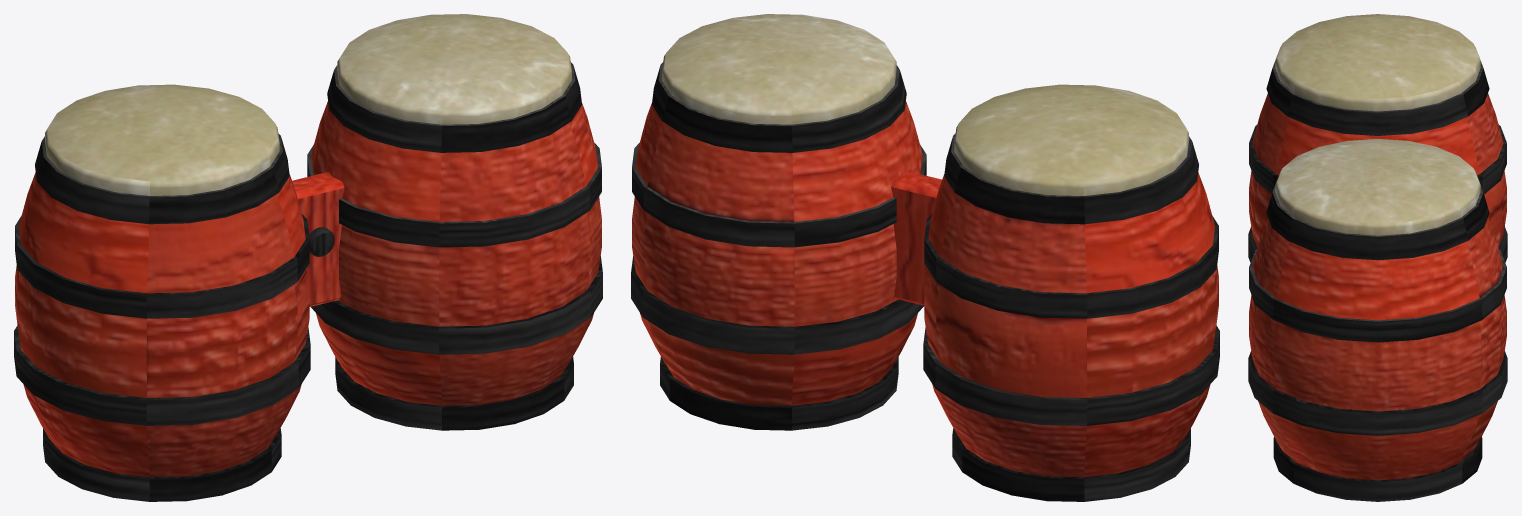
The model's file is bongos.fbx.
The picture shows the model from 3 angles, left to right: view 1: azimuth 30°, elevation 25°; view 2: azimuth 150°, elevation 25°; view 3: azimuth 270°, elevation 25°; orthographic projection. The views are drawn at different scales.
Parts seen in each view (by area): view 1: pCylinder7; view 2: pCylinder7; view 3: pCylinder7.
Part boxes in pixels (x1,y1,x2,y2): pCylinder7: [14, 14, 602, 501]; pCylinder7: [631, 14, 1219, 501]; pCylinder7: [1248, 14, 1507, 501].
Size of the model in its own units: 7.85 by 4.53 by 3.68.
4 materials, 4 textured.
